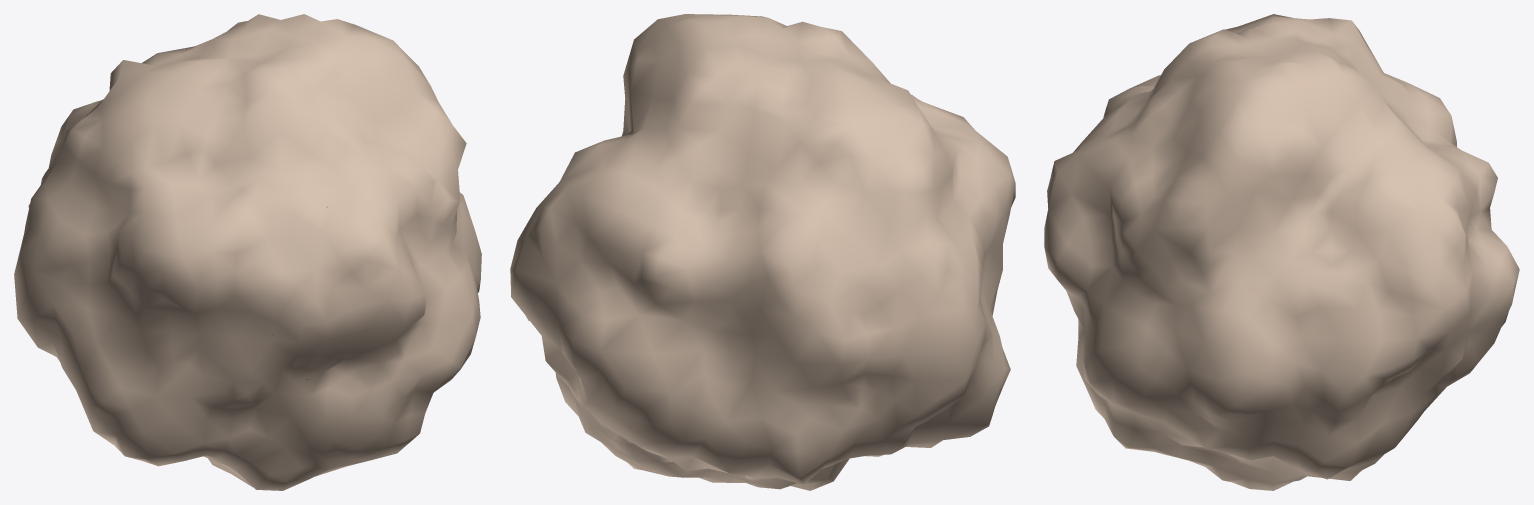
Rendered from Rock.obj.
The picture shows the model from 3 angles, left to right: view 1: azimuth 30°, elevation 25°; view 2: azimuth 150°, elevation 25°; view 3: azimuth 270°, elevation 25°; orthographic projection. The views are drawn at different scales.
Parts seen in each view (by area): view 1: ICO球; view 2: ICO球; view 3: ICO球.
Part boxes in pixels (x1,y1,x2,y2): ICO球: (14,14,481,490); ICO球: (510,14,1015,490); ICO球: (1044,14,1519,490).
Size of the model in its own units: 2.01 by 2.03 by 2.
Materials: 1 (1 with a texture image).
